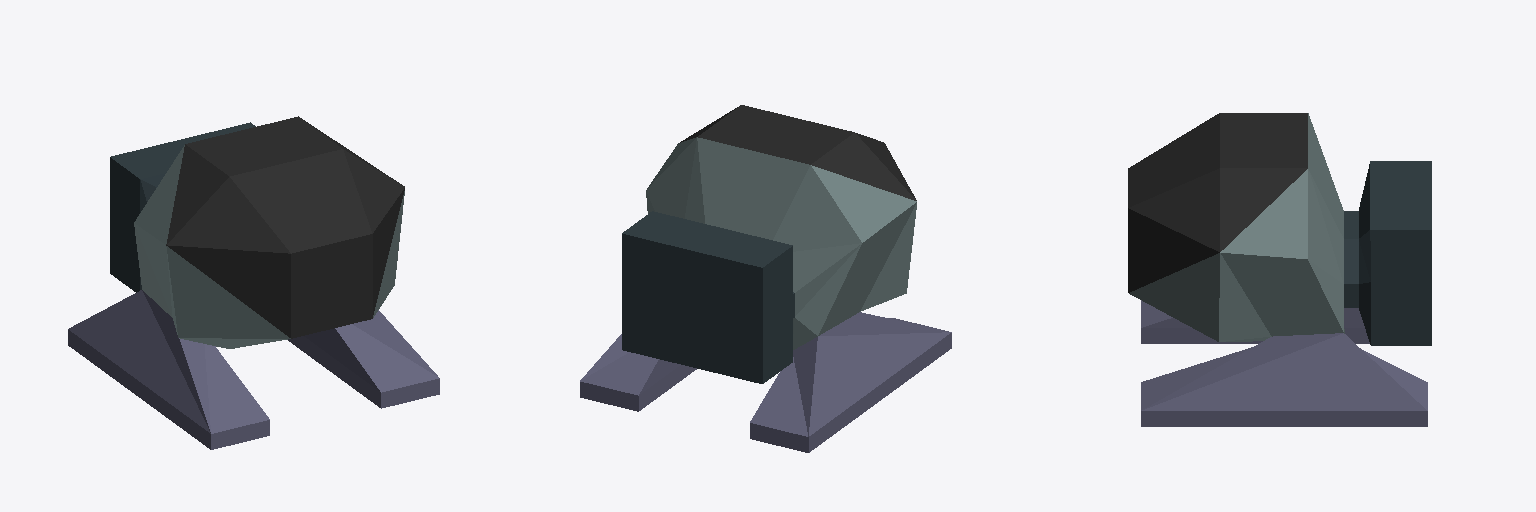
File: lander3.obj
The picture shows the model from 3 angles: view 1: azimuth 30°, elevation 25°; view 2: azimuth 150°, elevation 25°; view 3: azimuth 270°, elevation 25°; orthographic projection.
Visible parts, largest first — view 1: cube1; view 2: cube1; view 3: cube1.
Part boxes in pixels (bbox=[...]): cube1: bbox=[68, 116, 439, 449]; cube1: bbox=[580, 105, 951, 452]; cube1: bbox=[1128, 113, 1431, 426].
Size of the model in its own units: 2.1 by 1.94 by 2.31.